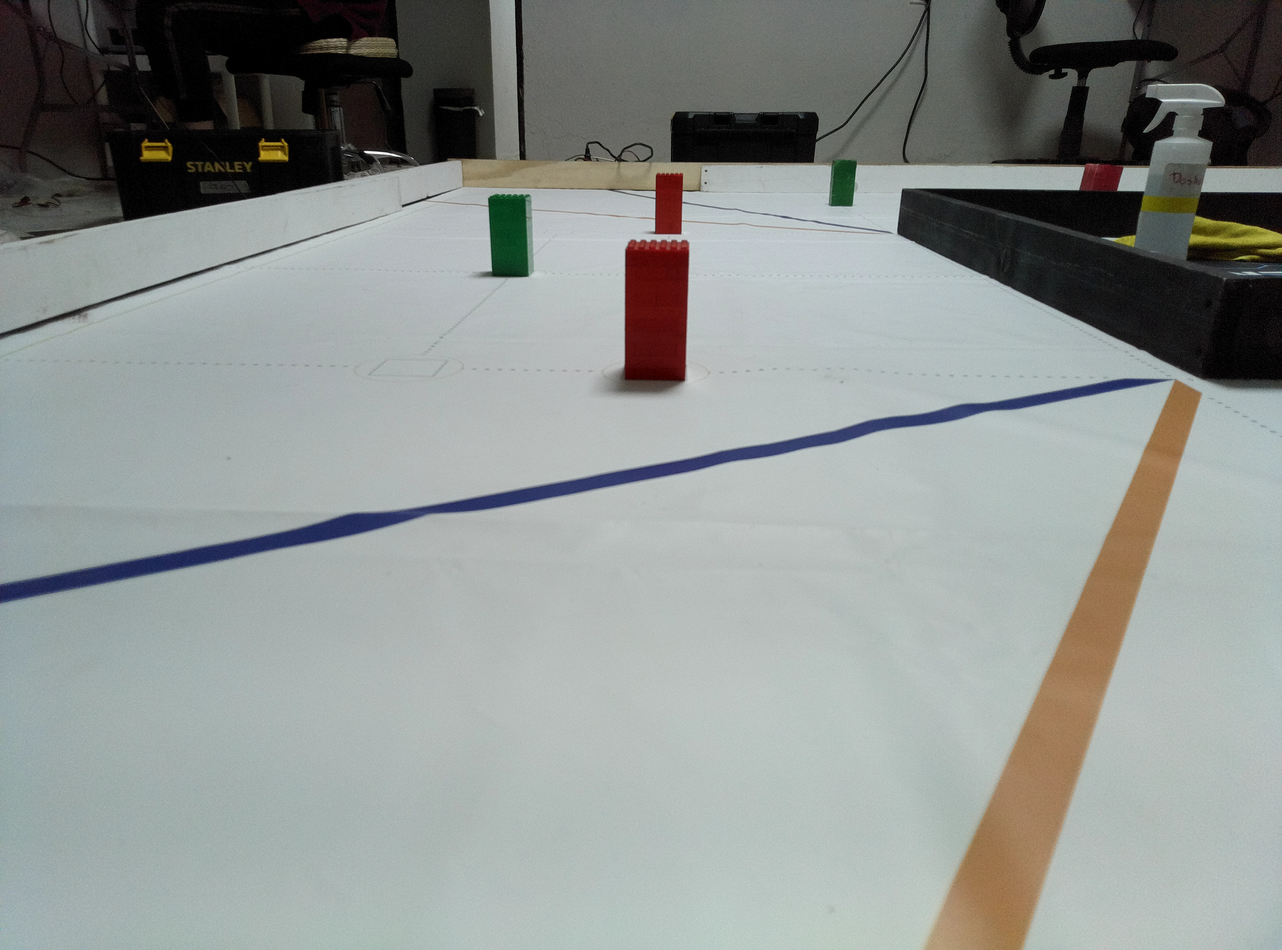greenbox: (487, 193, 536, 278), (828, 158, 857, 207)
redbox: (622, 238, 692, 384), (654, 172, 685, 236), (1077, 163, 1125, 192)
